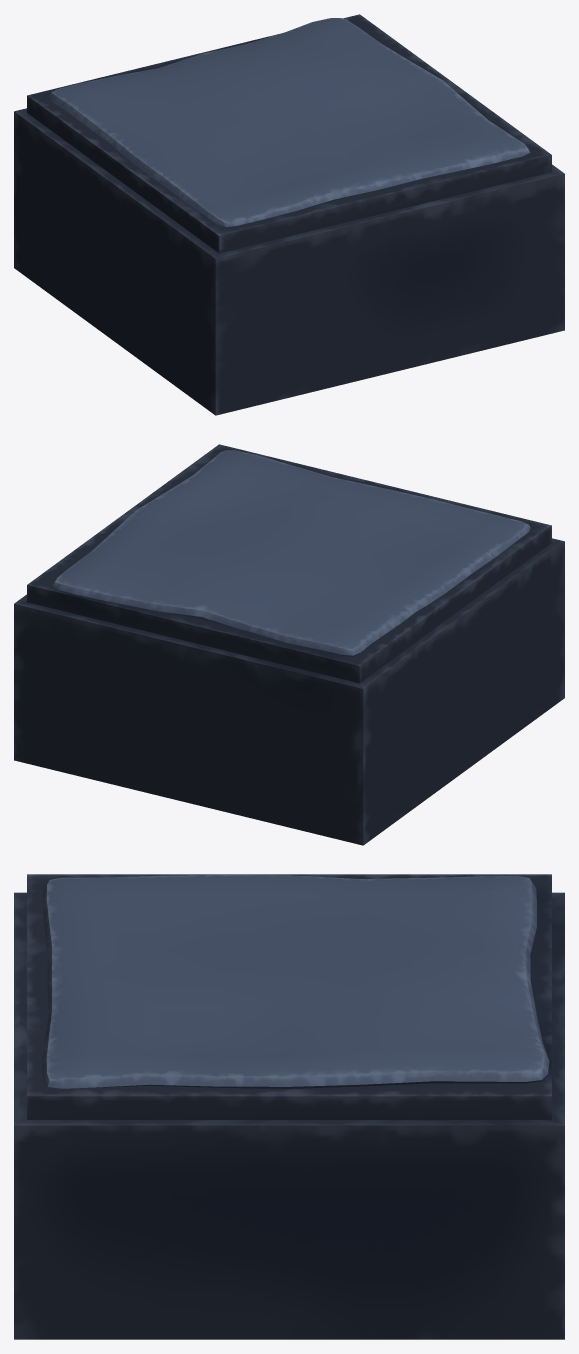
Rendered from Floor1-1.fbx.
3 renders of one model, top to bottom at view 1: azimuth 30°, elevation 25°; view 2: azimuth 150°, elevation 25°; view 3: azimuth 270°, elevation 25°, orthographic. The views are drawn at different scales.
Visible parts, largest first — view 1: FloorTileB4; view 2: FloorTileB4; view 3: FloorTileB4.
Boxes of the visible parts, <box> form: FloorTileB4: <box>14,14,564,415</box>; FloorTileB4: <box>14,444,564,845</box>; FloorTileB4: <box>14,874,564,1339</box>.
Bounding box in the file's own units: 2.1 × 1.08 × 2.1.
